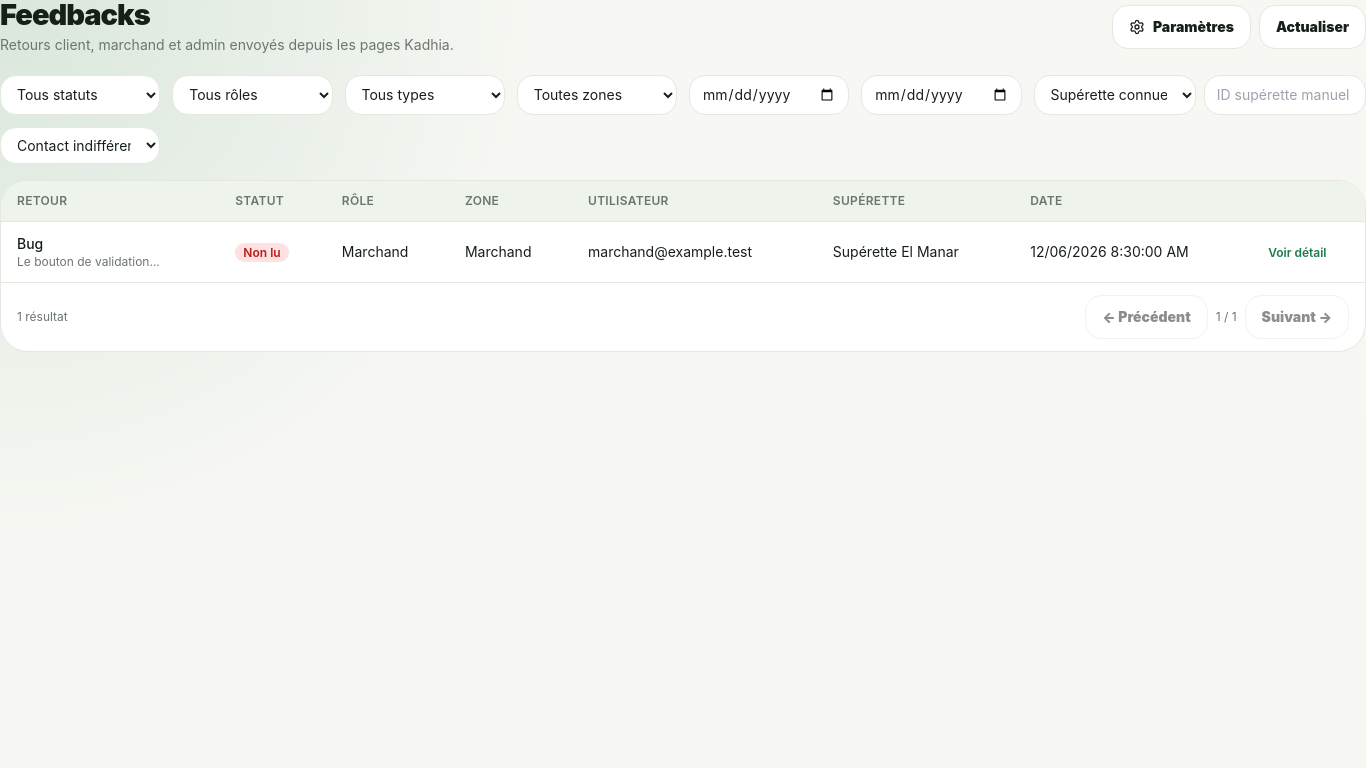
Scenario: AdminFeedbacksPage › ne propose que la réouverture sur un feedback déjà résolu
What coordinates should you click on to do the following:
click the button "Voir détail"
I would click on:
 (1297, 253)
Its box is top-left (1268, 245), bottom-right (1326, 261).
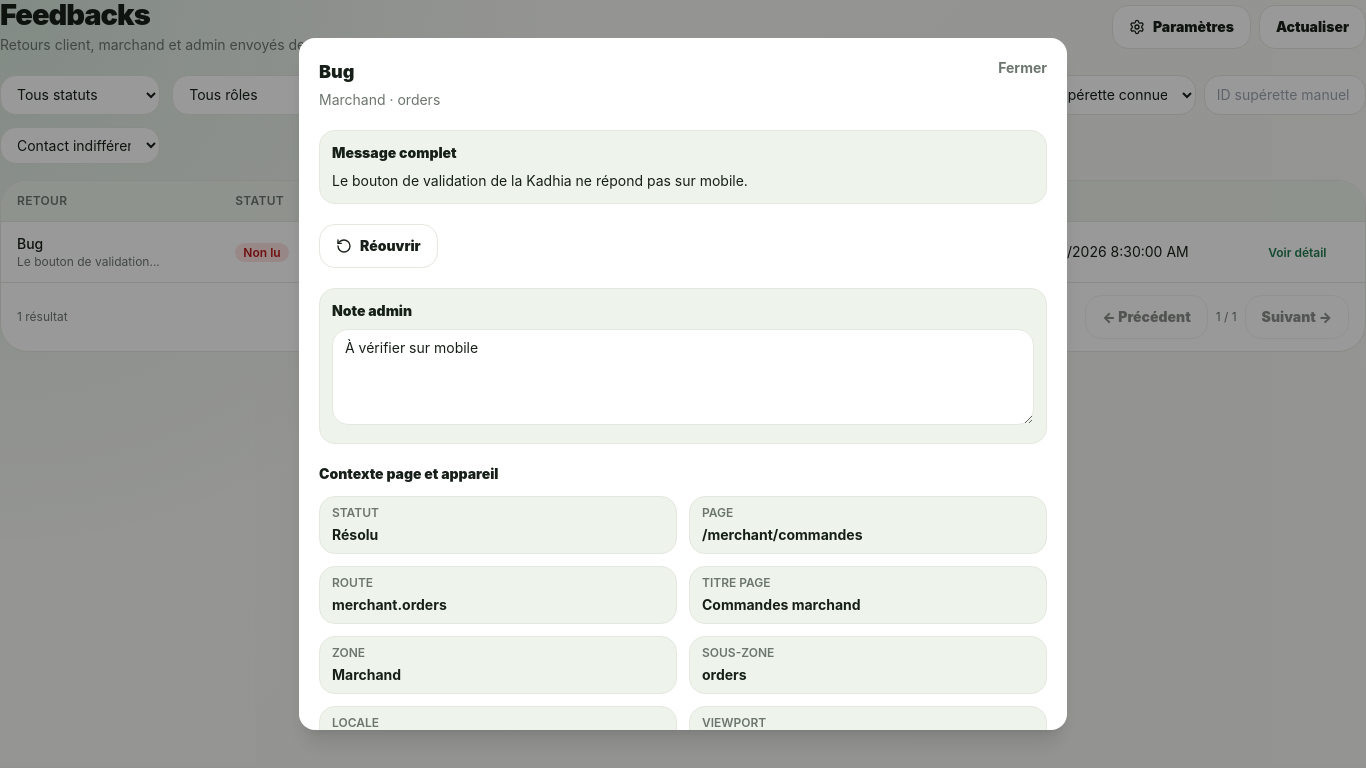
Result: the button "Réouvrir" is shown at top-left (319, 224), bottom-right (438, 268)
